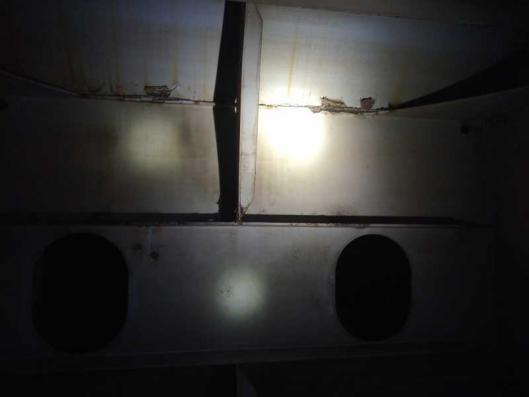corrosion: (315, 92, 387, 118), (61, 84, 129, 110), (135, 79, 174, 104)
